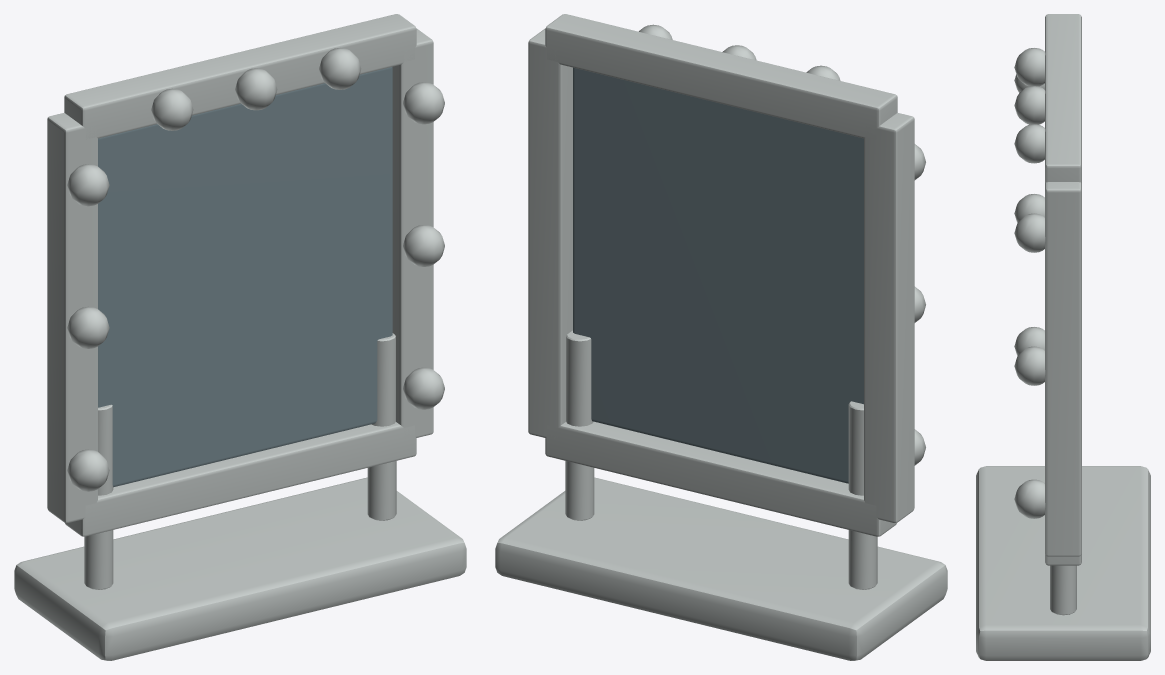
The model's file is makeup-mirror.glb.
The picture shows the model from 3 angles, left to right: view 1: azimuth 30°, elevation 25°; view 2: azimuth 150°, elevation 25°; view 3: azimuth 270°, elevation 25°; orthographic projection. The views are drawn at different scales.
Visible parts, largest first — view 1: mirror_glass, mirror_base, vanity_frame_side, vanity_frame_rail.001, vanity_frame_rail, vanity_frame_side.001, mirror_support.001, mirror_support, vanity_bulb.003, vanity_bulb.007, vanity_bulb.002, vanity_bulb (+5 smaller); view 2: mirror_glass, mirror_base, vanity_frame_side, vanity_frame_rail.001, vanity_frame_side.001, vanity_frame_rail, mirror_support.001, mirror_support; view 3: mirror_base, vanity_frame_side.001, vanity_frame_rail.001, mirror_support.001, vanity_bulb.003, vanity_bulb.004, vanity_bulb.005, vanity_bulb.008, vanity_bulb.007, vanity_bulb.006, vanity_bulb, vanity_bulb.001 (+1 smaller).
Part boxes in pixels (x1=…): mirror_glass: x1=98, y1=67, x2=392, y2=487; mirror_base: x1=14, y1=477, x2=466, y2=660; vanity_frame_side: x1=47, y1=112, x2=97, y2=522; vanity_frame_rail.001: x1=64, y1=14, x2=416, y2=139; vanity_frame_rail: x1=65, y1=422, x2=416, y2=536; vanity_frame_side.001: x1=392, y1=28, x2=433, y2=438; mirror_support.001: x1=367, y1=333, x2=396, y2=520; mirror_support: x1=84, y1=404, x2=113, y2=589; vanity_bulb.003: x1=403, y1=367, x2=444, y2=409; vanity_bulb.007: x1=235, y1=68, x2=277, y2=110; vanity_bulb.002: x1=67, y1=164, x2=109, y2=206; vanity_bulb: x1=67, y1=449, x2=109, y2=491; mirror_glass: x1=573, y1=67, x2=863, y2=483; mirror_base: x1=495, y1=477, x2=947, y2=660; vanity_frame_side: x1=864, y1=112, x2=914, y2=522; vanity_frame_rail.001: x1=545, y1=14, x2=897, y2=139; vanity_frame_side.001: x1=528, y1=28, x2=572, y2=438; vanity_frame_rail: x1=545, y1=421, x2=896, y2=536; mirror_support.001: x1=565, y1=330, x2=594, y2=520; mirror_support: x1=848, y1=401, x2=877, y2=589; mirror_base: x1=976, y1=466, x2=1150, y2=660; vanity_frame_side.001: x1=1045, y1=182, x2=1081, y2=556; vanity_frame_rail.001: x1=1045, y1=14, x2=1081, y2=183; mirror_support.001: x1=1050, y1=565, x2=1076, y2=615; vanity_bulb.003: x1=1014, y1=479, x2=1045, y2=518; vanity_bulb.004: x1=1014, y1=346, x2=1045, y2=385; vanity_bulb.005: x1=1014, y1=213, x2=1045, y2=252; vanity_bulb.008: x1=1014, y1=124, x2=1045, y2=163; vanity_bulb.007: x1=1014, y1=86, x2=1045, y2=124; vanity_bulb.006: x1=1014, y1=48, x2=1045, y2=86; vanity_bulb: x1=1014, y1=327, x2=1044, y2=355; vanity_bulb.001: x1=1014, y1=194, x2=1044, y2=222.
Bounding box in the file's own units: 0.71 × 0.965 × 0.31.
